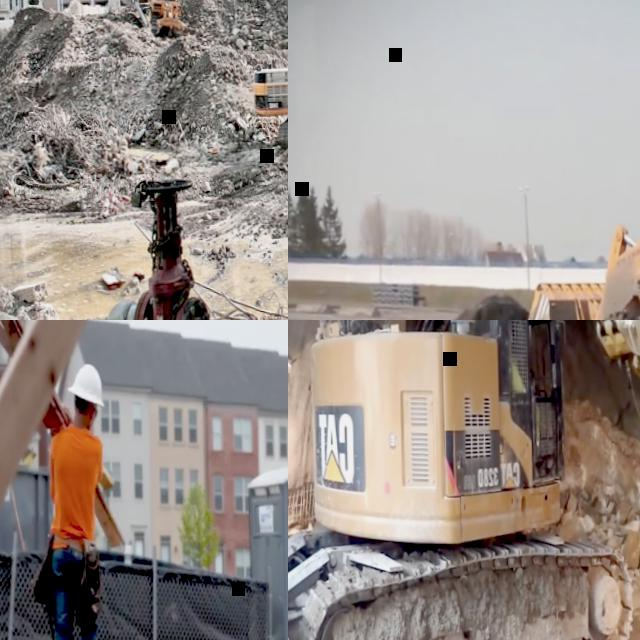helmet: (64, 362, 104, 408)
machinery: (288, 320, 640, 640), (134, 0, 188, 37)
no_vest: (49, 426, 104, 546)
person: (42, 361, 115, 640), (508, 336, 538, 442)
vest: (510, 357, 524, 393)
